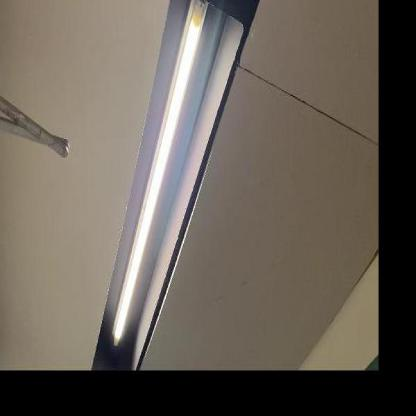light_on: (106, 0, 216, 352)
